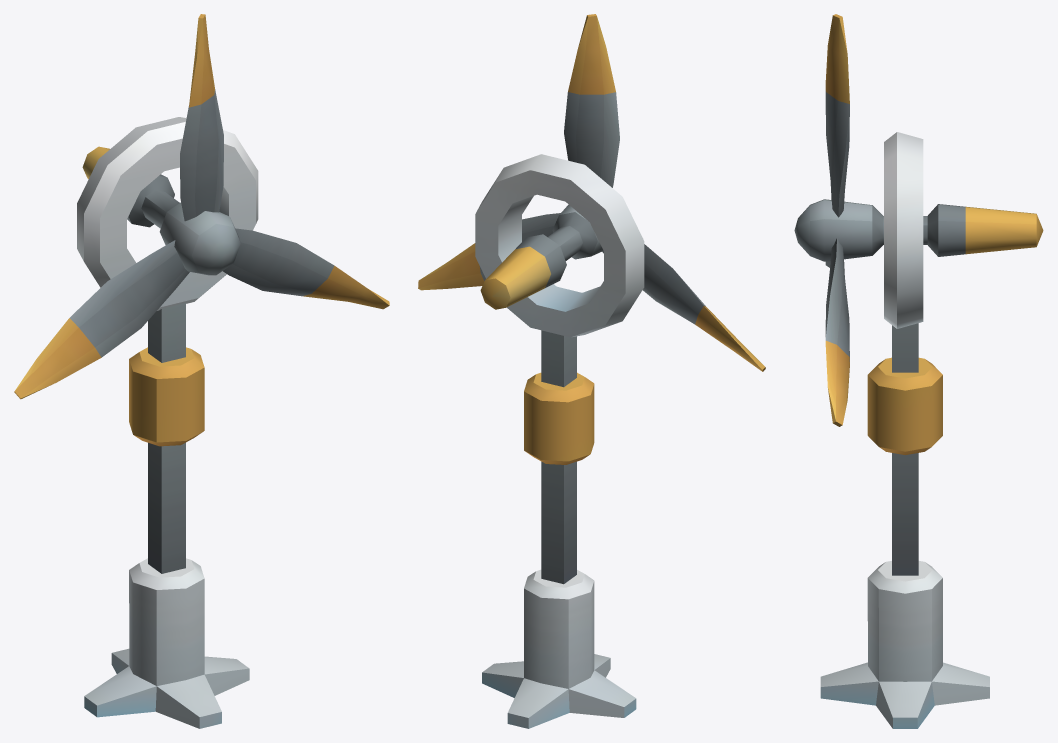
Rendered from kay-turbina-eolica.gltf.
3 renders of one model, left to right at view 1: azimuth 30°, elevation 25°; view 2: azimuth 150°, elevation 25°; view 3: azimuth 270°, elevation 25°, orthographic. The views are drawn at different scales.
Parts seen in each view (by area): view 1: windturbine_tall; view 2: windturbine_tall; view 3: windturbine_tall.
Boxes of the visible parts, x1,y1,x2,y2 form: windturbine_tall: (14,14,389,728); windturbine_tall: (418,14,765,728); windturbine_tall: (794,14,1043,728).
Bounding box in the file's own units: 4.33 × 7.8 × 2.6.
1 material, 1 textured.
